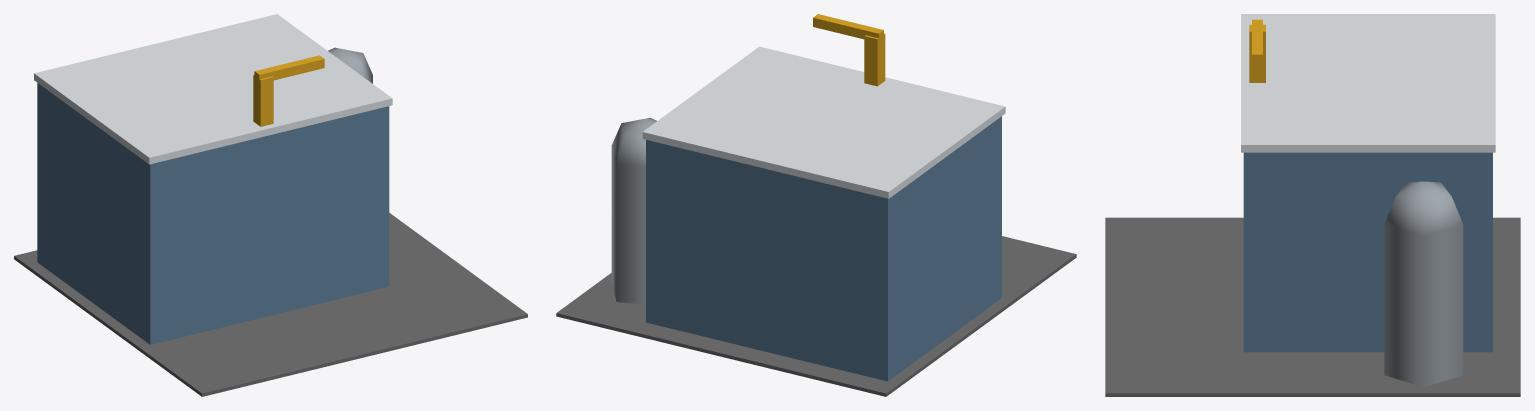
File: bld_special_factory_a10_lod2.glb
The picture shows the model from 3 angles, left to right: view 1: azimuth 30°, elevation 25°; view 2: azimuth 150°, elevation 25°; view 3: azimuth 270°, elevation 25°; orthographic projection. The views are drawn at different scales.
Visible parts, largest first — view 1: body, arm; view 2: body, arm; view 3: body, arm.
Part boxes in pixels (x1,y1,x2,y2): body: (14,14,527,396); arm: (253,55,324,126); body: (556,46,1076,396); arm: (813,14,885,86); body: (1105,14,1520,396); arm: (1249,19,1265,82).
Bounding box in the file's own units: 15 × 10.7 × 15.
